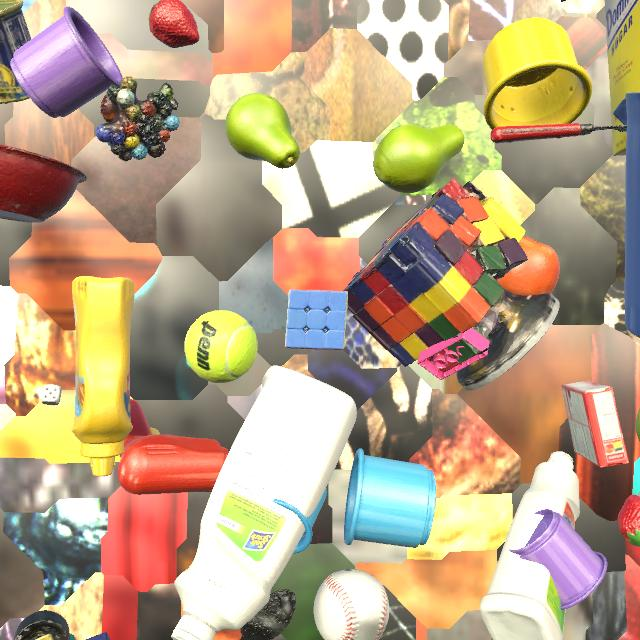ycb_004_sugar_box: (605, 0, 640, 156)
ycb_006_mustard_bottle: (71, 276, 135, 477)
ycb_009_gelatin_box: (562, 380, 629, 468)
ycb_010_potted_meat_can: (0, 0, 31, 104)
ycb_012_strawberry: (149, 0, 199, 48), (617, 494, 640, 547)
ycb_016_pear: (373, 124, 464, 193), (225, 93, 300, 169), (636, 408, 640, 442)
ycb_017_orange: (497, 236, 560, 296)
